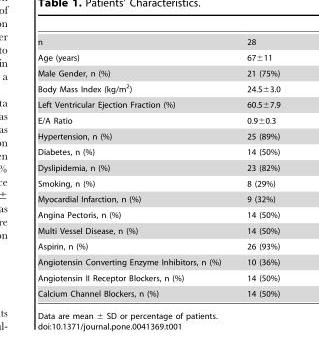table: (37, 37, 279, 297)
table column: (37, 37, 233, 297), (233, 37, 279, 297)
table row: (37, 49, 279, 65), (37, 80, 279, 96), (37, 96, 279, 112), (37, 112, 279, 128), (37, 128, 279, 144), (37, 159, 279, 175), (37, 175, 279, 191), (37, 206, 279, 222), (37, 222, 279, 238), (37, 238, 279, 254), (37, 269, 279, 285), (37, 65, 279, 80), (37, 144, 279, 159), (37, 191, 279, 206), (37, 254, 279, 269), (37, 37, 279, 49), (37, 285, 279, 297)
